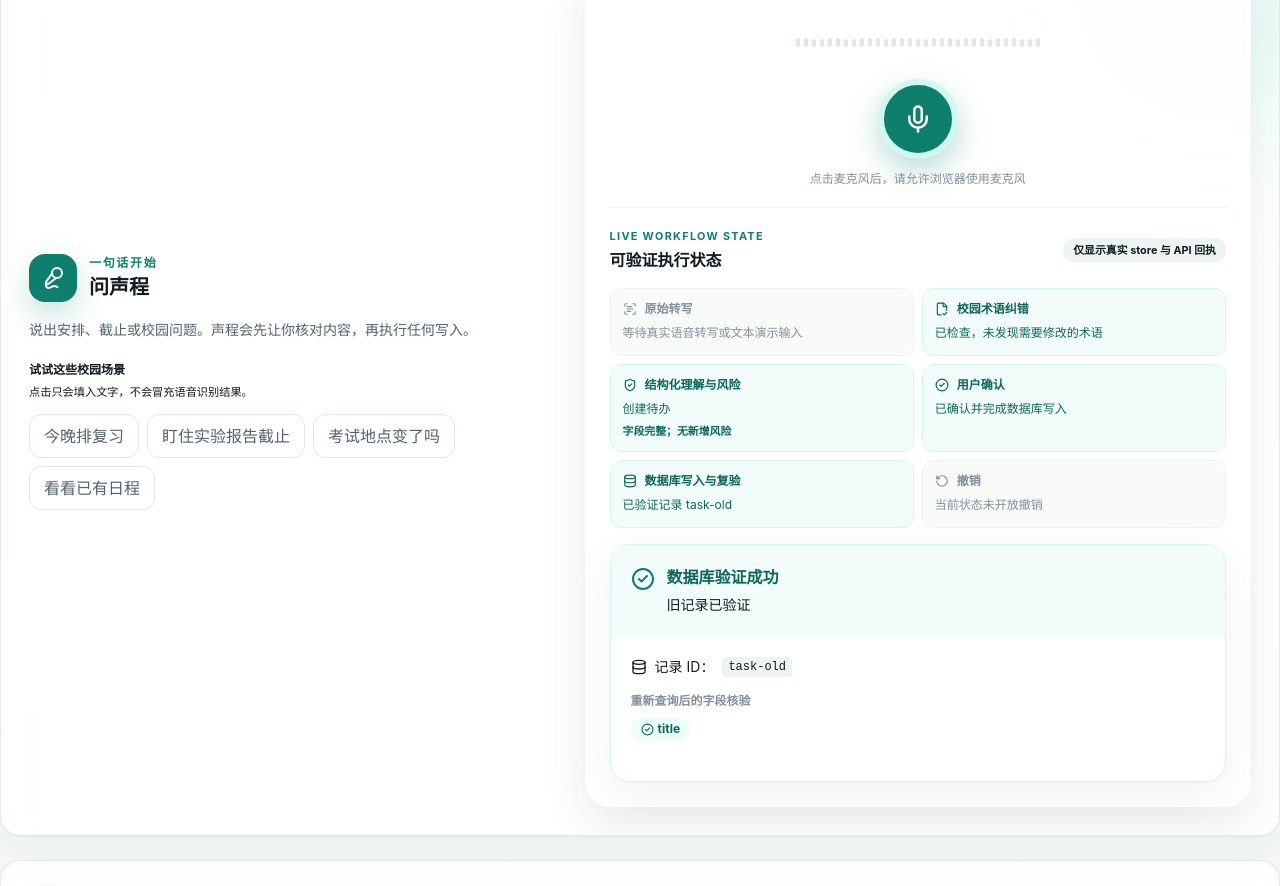
Test case: dashboard business states › clears stale workflow state when a new Home command starts
(page scrolled)
Click the button "盯住实验报告截止" at {"x": 226, "y": 436}, box [147,414,305,458]
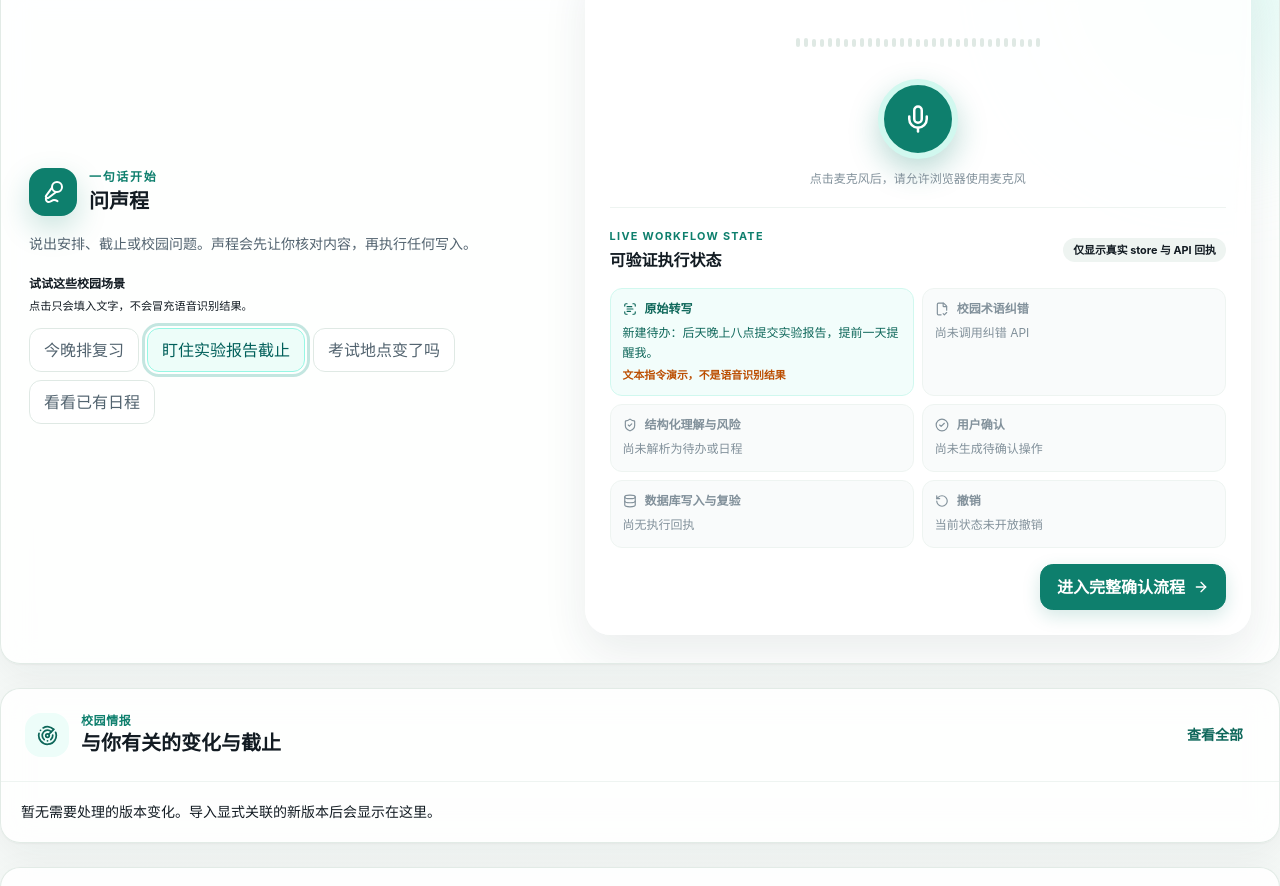
expect the text "旧记录已验证" is gone: met
